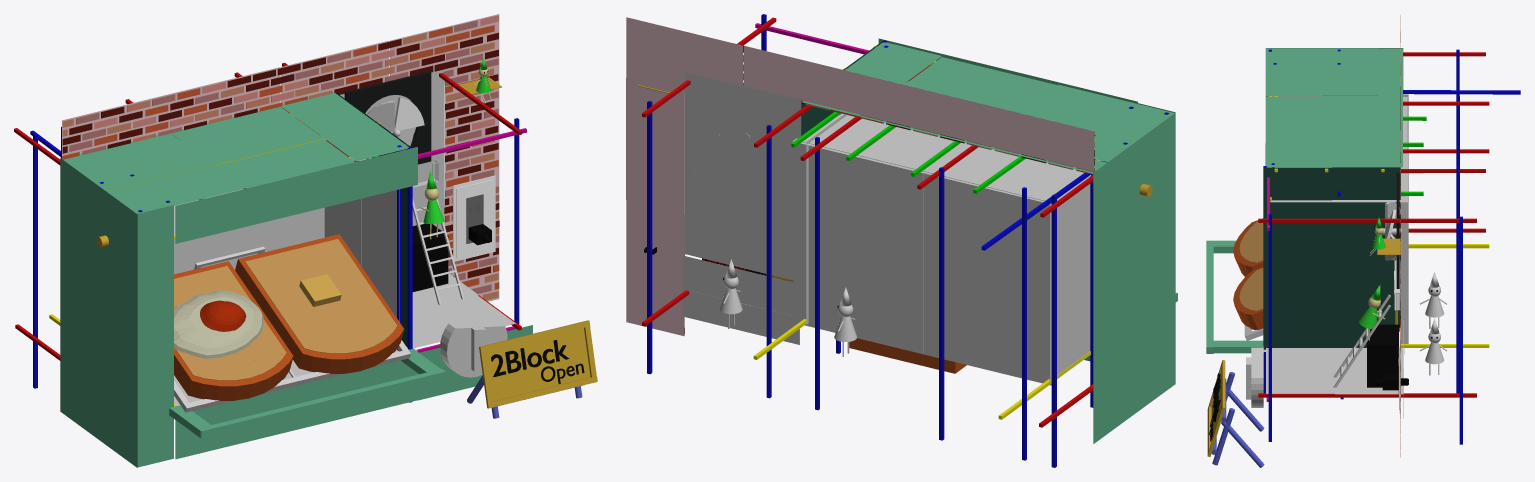
The model's file is saved.obj.
3 renders of one model, left to right at view 1: azimuth 30°, elevation 25°; view 2: azimuth 150°, elevation 25°; view 3: azimuth 270°, elevation 25°, orthographic. The views are drawn at different scales.
Parts seen in each view (by area): view 1: 立方体.085_立方体.057, 立方体.014_立方体, 立方体.016_立方体.009, 立方体.005_立方体.006, 立方体.004_立方体.005, 立方体.001, 立方体.119_立方体.064, 円柱.024_円柱.025, 円.008_円.003, 立方体.042_立方体.029, 立方体.011_立方体.019, 立方体.010_立方体.018 (+39 smaller); view 2: 立方体.009_立方体.032, 立方体.066_立方体.031, 立方体.014_立方体, 立方体.016_立方体.009, 立方体.076_立方体.036, 立方体.075_立方体.027, 立方体.082_立方体.048, 立方体.074_立方体.007, 立方体.039_立方体.028, 立方体.083_立方体.052, 立方体.073_立方体.003, 立方体.078_立方体.042 (+24 smaller); view 3: 立方体.018_立方体.011, 立方体.025_立方体.012, 立方体.032_立方体.023, 立方体.011_立方体.019, 立方体.008_立方体.017, 立方体.010_立方体.018, 立方体.007_立方体.016, 円柱.024_円柱.025, 立方体.028_立方体.014, 立方体.115_立方体.062, 立方体.085_立方体.057, 立方体.027_立方体.013 (+28 smaller).
Part boxes in pixels (x1=…): 立方体.085_立方体.057: x1=235, y1=234, x2=404, y2=373; 立方体.014_立方体: x1=60, y1=285, x2=137, y2=467; 立方体.016_立方体.009: x1=60, y1=158, x2=137, y2=340; 立方体.005_立方体.006: x1=175, y1=147, x2=417, y2=243; 立方体.004_立方体.005: x1=137, y1=205, x2=173, y2=467; 立方体.001: x1=175, y1=360, x2=417, y2=459; 立方体.119_立方体.064: x1=174, y1=261, x2=293, y2=400; 円柱.024_円柱.025: x1=467, y1=320, x2=597, y2=418; 円.008_円.003: x1=174, y1=290, x2=263, y2=358; 立方体.042_立方体.029: x1=361, y1=158, x2=399, y2=321; 立方体.011_立方体.019: x1=184, y1=115, x2=323, y2=164; 立方体.010_立方体.018: x1=75, y1=142, x2=214, y2=191; 立方体.009_立方体.032: x1=794, y1=139, x2=923, y2=354; 立方体.066_立方体.031: x1=924, y1=171, x2=1051, y2=385; 立方体.014_立方体: x1=1093, y1=248, x2=1175, y2=443; 立方体.016_立方体.009: x1=1093, y1=113, x2=1175, y2=308; 立方体.076_立方体.036: x1=684, y1=72, x2=801, y2=159; 立方体.075_立方体.027: x1=684, y1=132, x2=793, y2=219; 立方体.082_立方体.048: x1=626, y1=78, x2=684, y2=213; 立方体.074_立方体.007: x1=684, y1=193, x2=793, y2=280; 立方体.039_立方体.028: x1=1049, y1=177, x2=1090, y2=380; 立方体.083_立方体.052: x1=626, y1=200, x2=684, y2=336; 立方体.073_立方体.003: x1=683, y1=255, x2=799, y2=344; 立方体.078_立方体.042: x1=860, y1=74, x2=977, y2=143; 立方体.018_立方体.011: x1=1263, y1=167, x2=1332, y2=348; 立方体.025_立方体.012: x1=1332, y1=167, x2=1400, y2=347; 立方体.032_立方体.023: x1=1265, y1=143, x2=1377, y2=167; 立方体.011_立方体.019: x1=1322, y1=96, x2=1378, y2=143; 立方体.008_立方体.017: x1=1265, y1=96, x2=1321, y2=143; 立方体.010_立方体.018: x1=1322, y1=48, x2=1378, y2=95; 立方体.007_立方体.016: x1=1265, y1=48, x2=1321, y2=95; 円柱.024_円柱.025: x1=1207, y1=360, x2=1264, y2=467; 立方体.028_立方体.014: x1=1266, y1=348, x2=1334, y2=374; 立方体.115_立方体.062: x1=1367, y1=324, x2=1399, y2=387; 立方体.085_立方体.057: x1=1233, y1=266, x2=1263, y2=329; 立方体.027_立方体.013: x1=1266, y1=374, x2=1334, y2=393.
Bounding box in the file's own units: 14.68 × 9.65 × 10.05.
